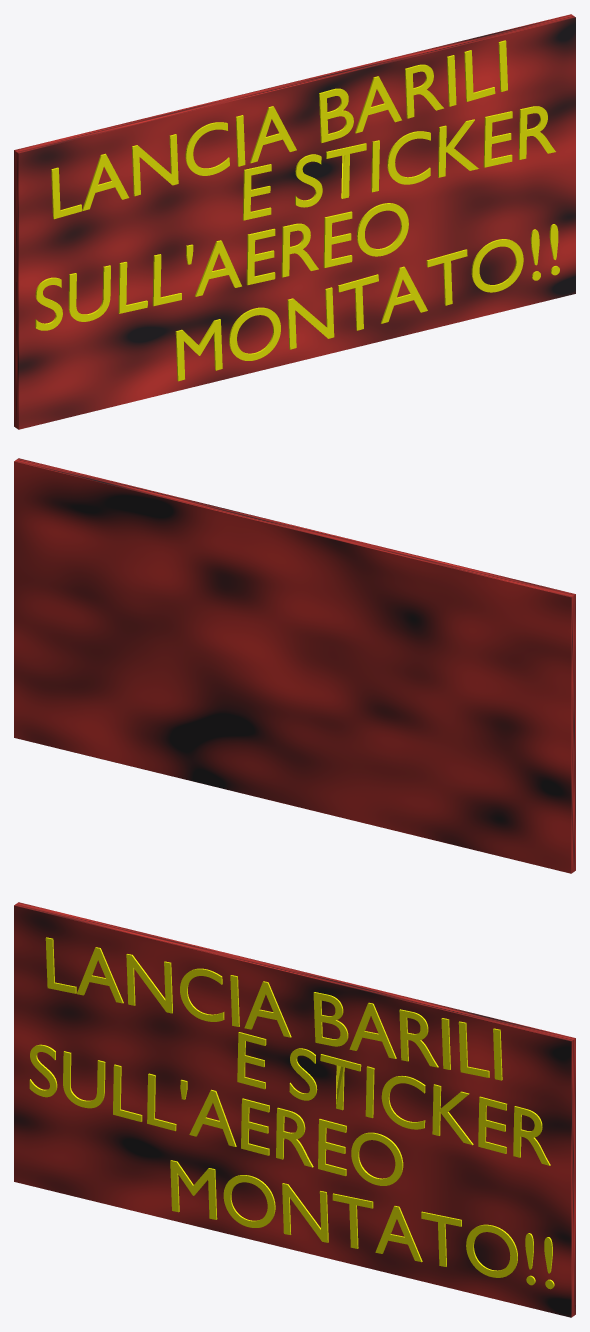
Rendered from CartelloLanciaBarili.fbx.
3 views of the same model, one above another, from view 1: azimuth 30°, elevation 25°; view 2: azimuth 150°, elevation 25°; view 3: azimuth 330°, elevation 25° (orthographic).
Parts seen in each view (by area): view 1: CartelloRosso, Text.006, Text.008, Text.009, Text.007; view 2: CartelloRosso; view 3: CartelloRosso, Text.006, Text.008, Text.009, Text.007.
Boxes of the visible parts, x1,y1,x2,y2 form: CartelloRosso: (14, 14, 575, 429); Text.006: (51, 40, 507, 219); Text.008: (35, 203, 408, 330); Text.009: (175, 224, 559, 381); Text.007: (242, 106, 555, 220); CartelloRosso: (14, 458, 575, 873); CartelloRosso: (14, 902, 575, 1317); Text.006: (45, 937, 502, 1080); Text.008: (29, 1044, 403, 1185); Text.009: (170, 1160, 554, 1289); Text.007: (237, 1032, 550, 1165).
Bounding box in the file's own units: 1.9 × 0.899 × 0.0335.
2 materials, 1 textured.
